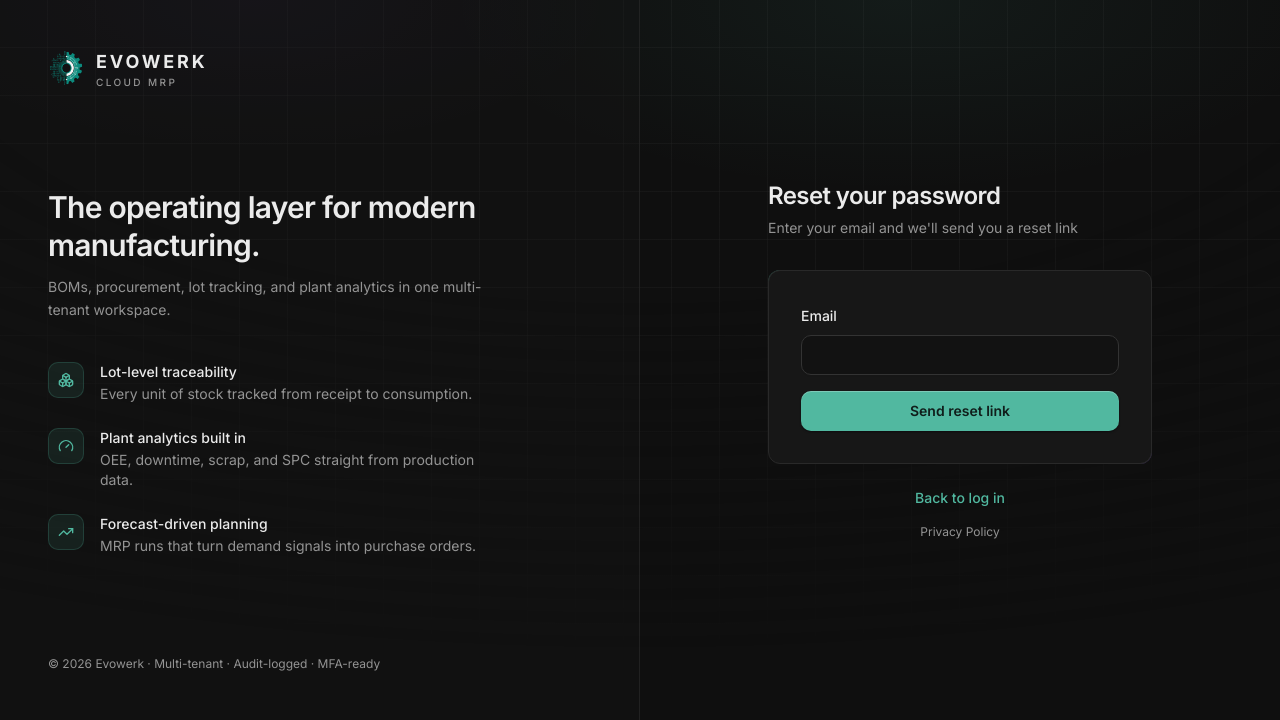
ForgotPassword › posts the email and shows the same confirmation even when the backend errors
The image size is (1280, 720).
In the field labelled "Email": coordinates (960, 355) left=801, top=335, right=1119, bottom=375, type "test@example.com"
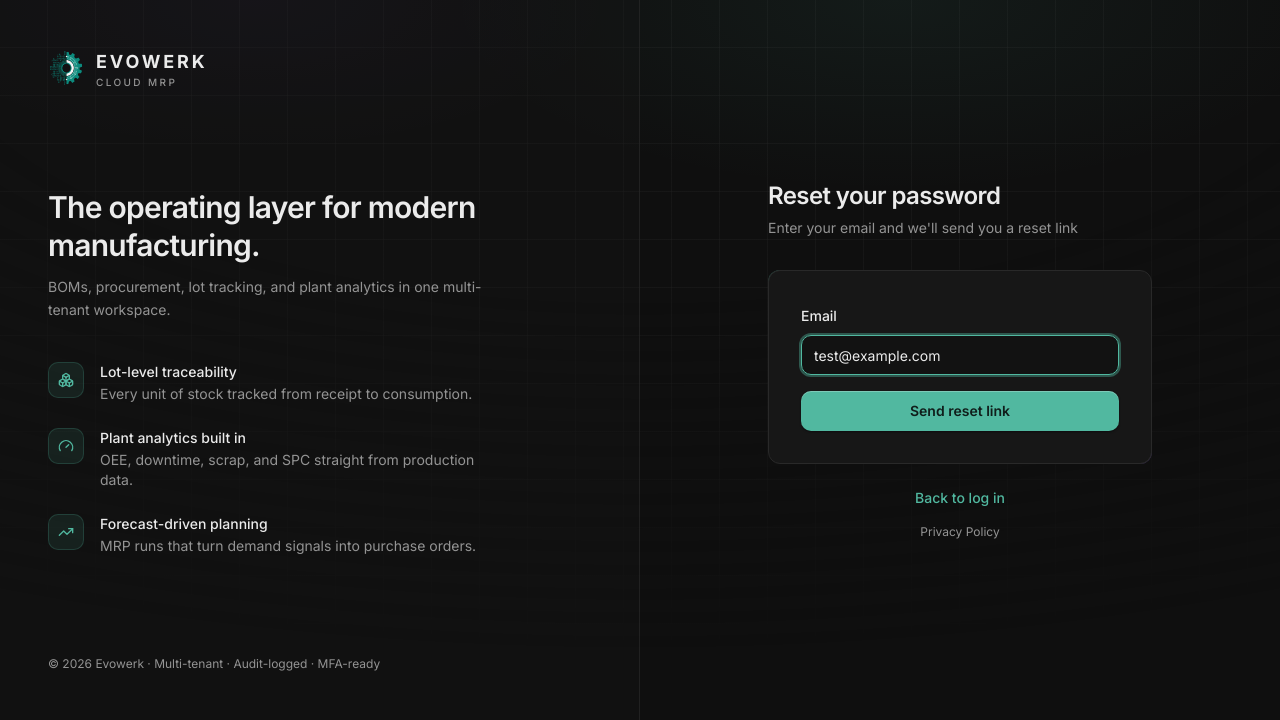
Click the button "Send reset link": coordinates (960, 411) left=801, top=391, right=1119, bottom=431
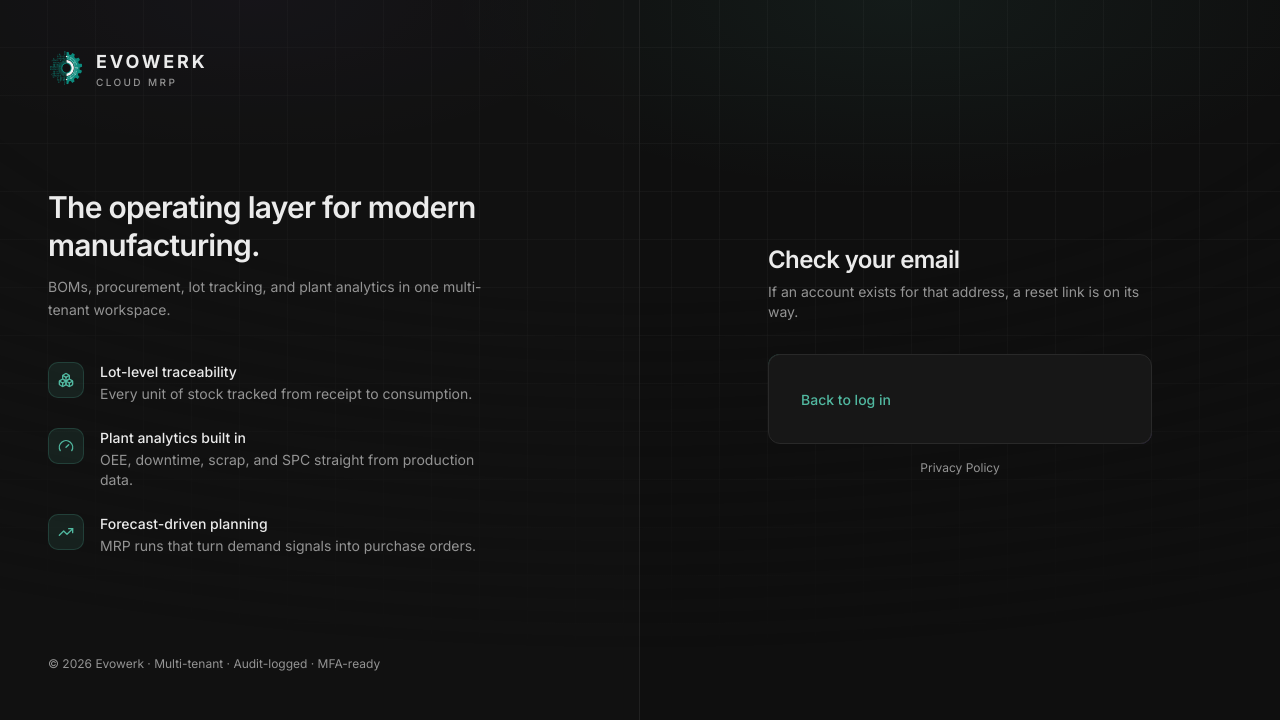
Check: the heading "Check your email" is shown, box left=768, top=244, right=959, bottom=276
